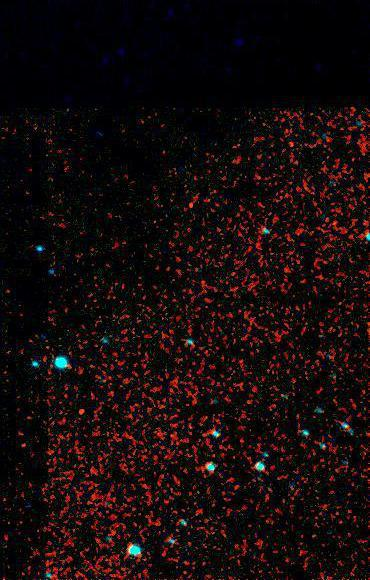star: (68, 401, 98, 431)
